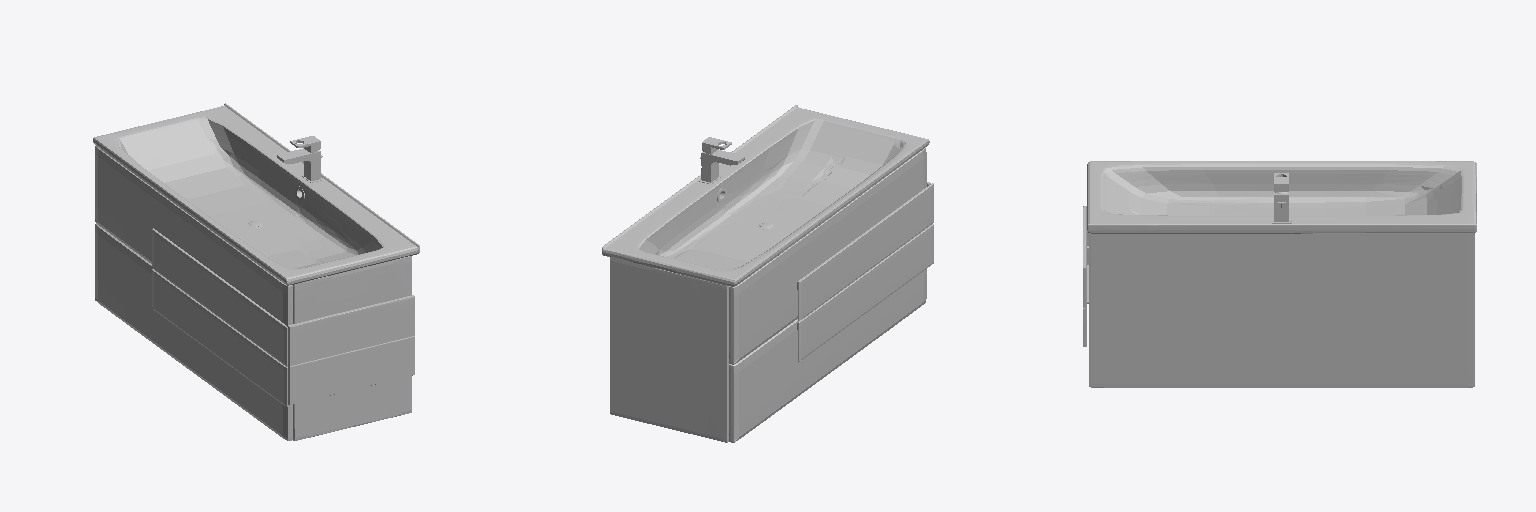
Rendered from Basic.obj.
3 renders of one model, left to right at view 1: azimuth 30°, elevation 25°; view 2: azimuth 150°, elevation 25°; view 3: azimuth 270°, elevation 25°, orthographic.
Visible parts, largest first — view 1: 5.Cupboard_Basin_Cupboard+washbasin; view 2: 5.Cupboard_Basin_Cupboard+washbasin; view 3: 5.Cupboard_Basin_Cupboard+washbasin.
Part boxes in pixels (x1,y1,x2,y2): 5.Cupboard_Basin_Cupboard+washbasin: (93, 103, 419, 440); 5.Cupboard_Basin_Cupboard+washbasin: (602, 105, 933, 442); 5.Cupboard_Basin_Cupboard+washbasin: (1083, 161, 1476, 387).
Size of the model in its own units: 3.26 by 4.66 by 8.17.